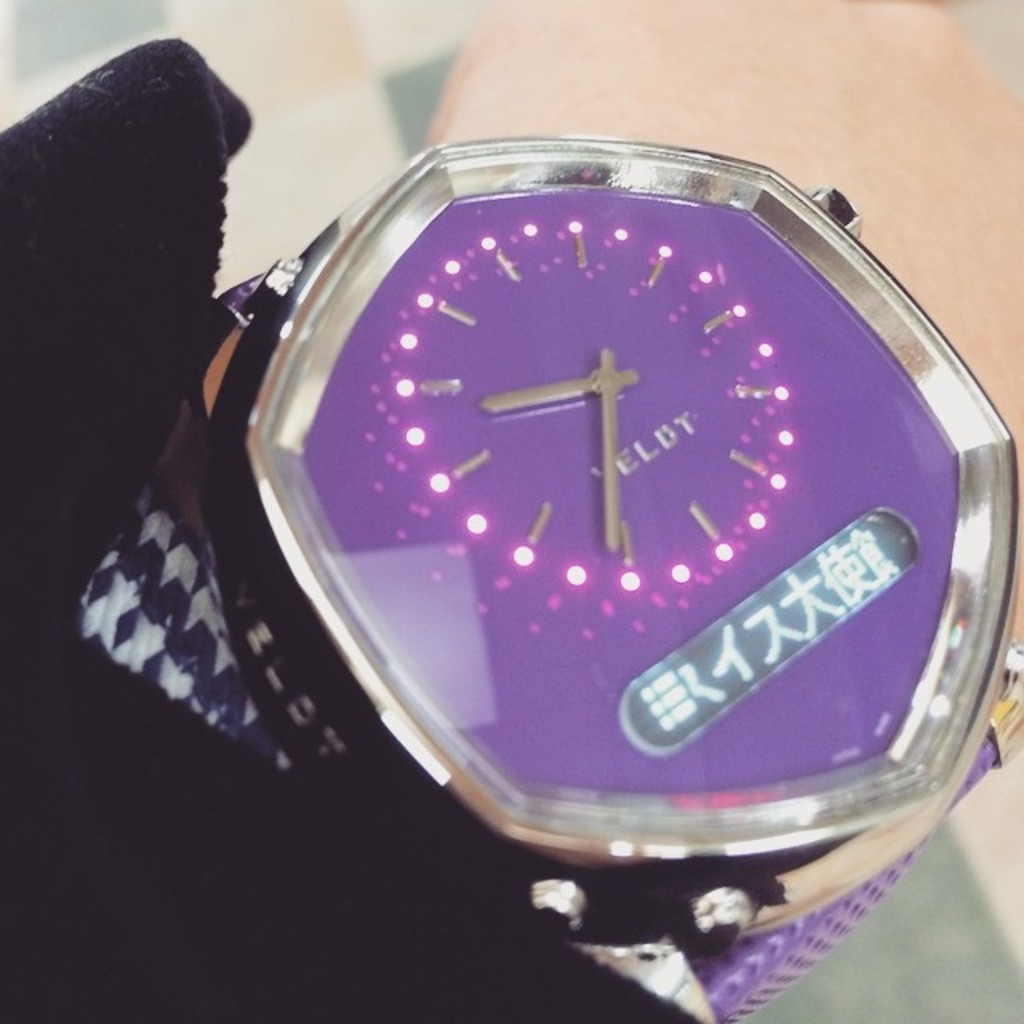watch: (195, 145, 1011, 892)
